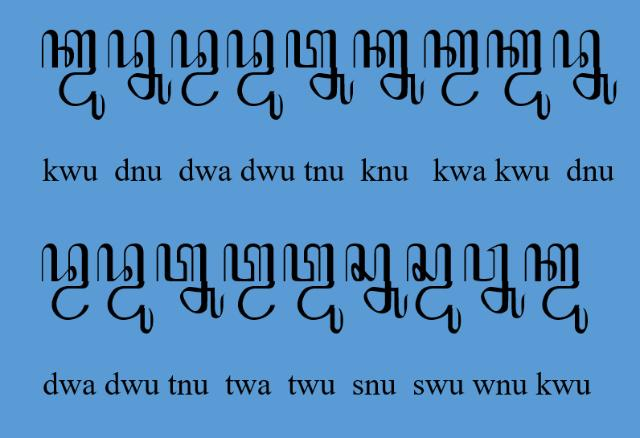dnu: (107, 28, 173, 106), (552, 30, 618, 106)
dw: (170, 30, 220, 108), (41, 244, 89, 320)
dwu: (96, 242, 154, 334), (226, 30, 284, 120)
knu: (354, 28, 424, 104)
kw: (424, 30, 478, 106)
kwu: (487, 29, 551, 121), (524, 242, 588, 334), (42, 29, 104, 121)
snu: (345, 243, 409, 319)
swu: (406, 244, 460, 334)
tnu: (286, 28, 354, 106), (156, 243, 224, 319)
tw: (224, 243, 276, 321)
twu: (283, 243, 343, 335)
wnu: (463, 244, 525, 318)
